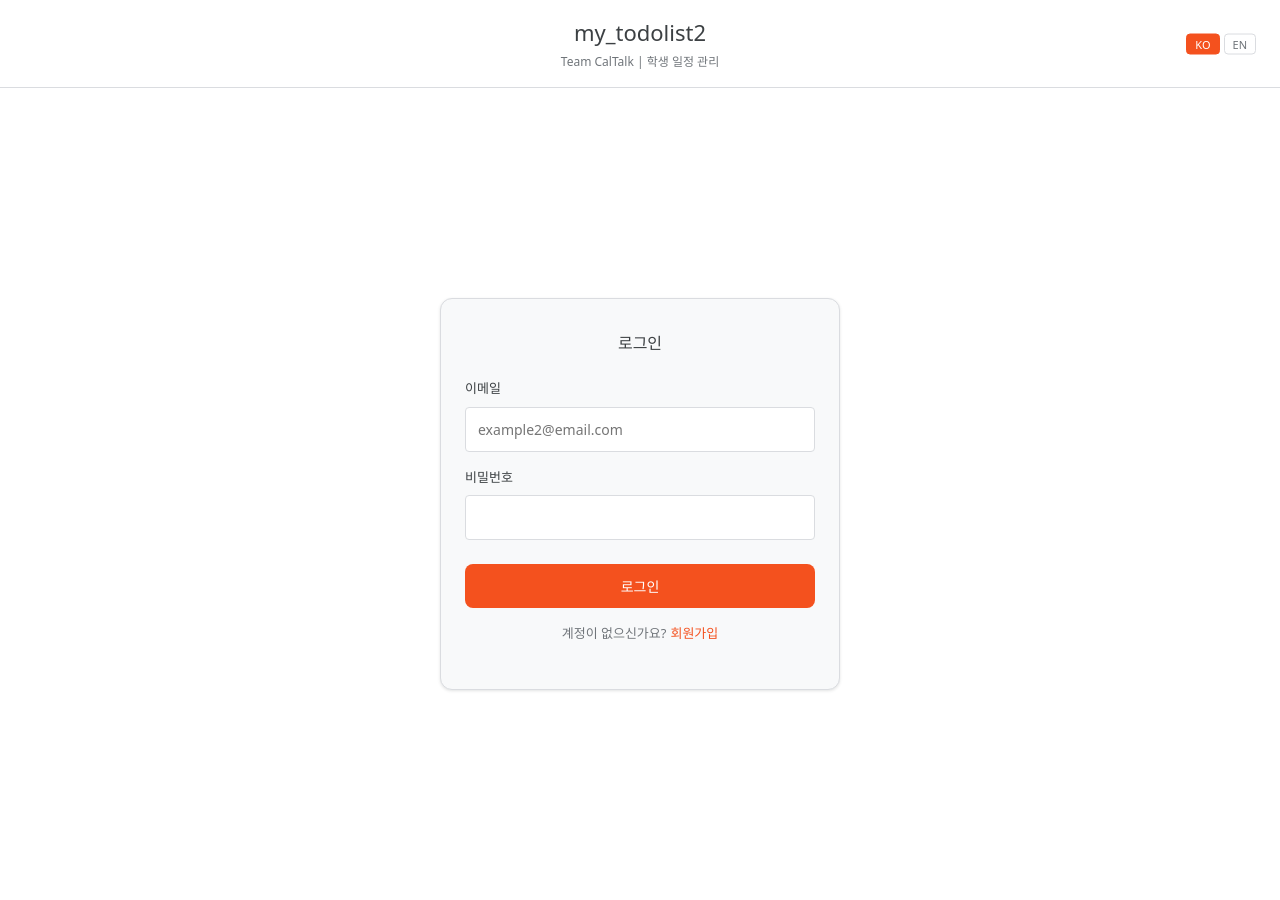
Test: 이메일 유효성 검사 › 이메일이 비어있으면 blur 시 필수 에러가 표시된다
Click the field labelled "이메일" at (640, 429), box [465, 407, 815, 452]
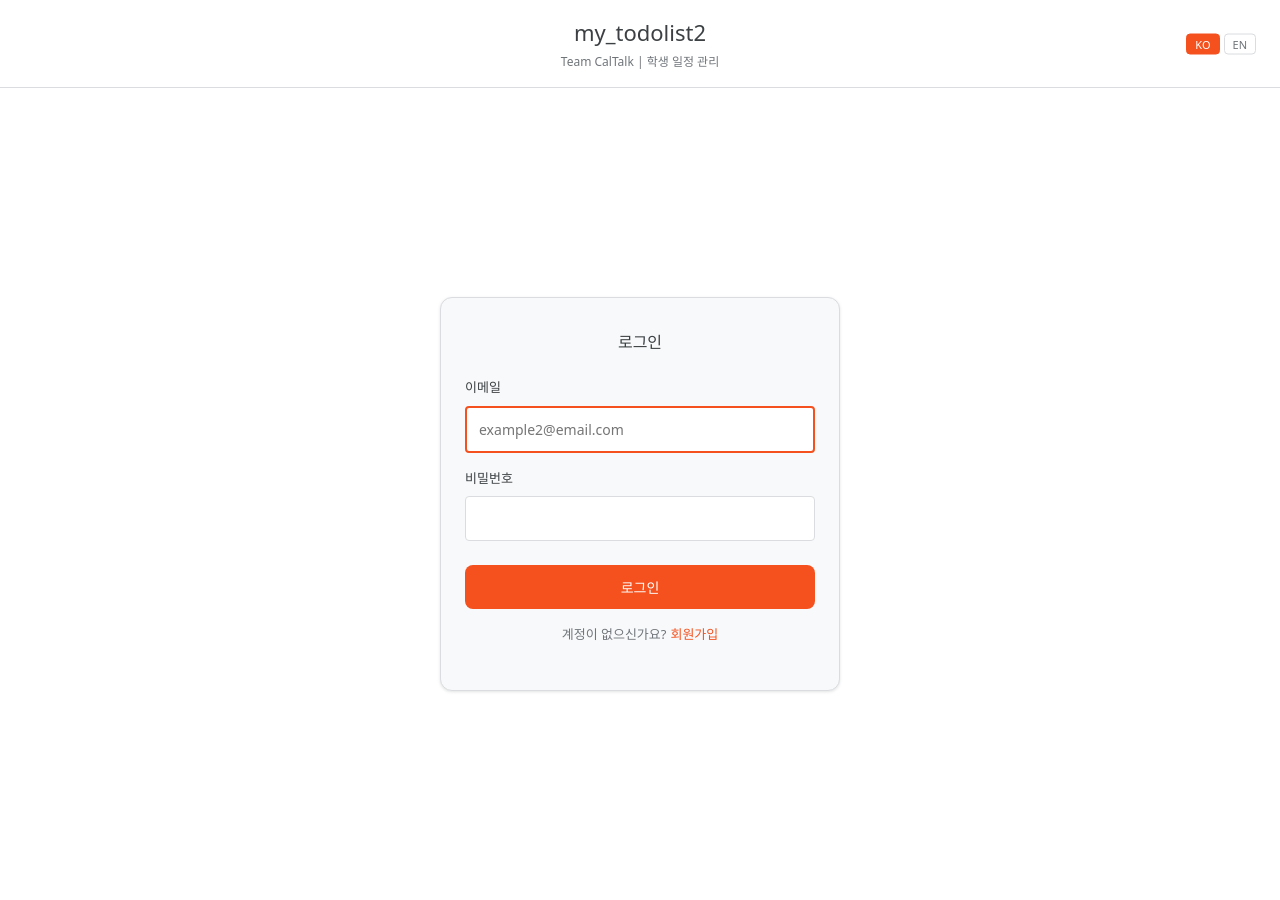
Press Tab
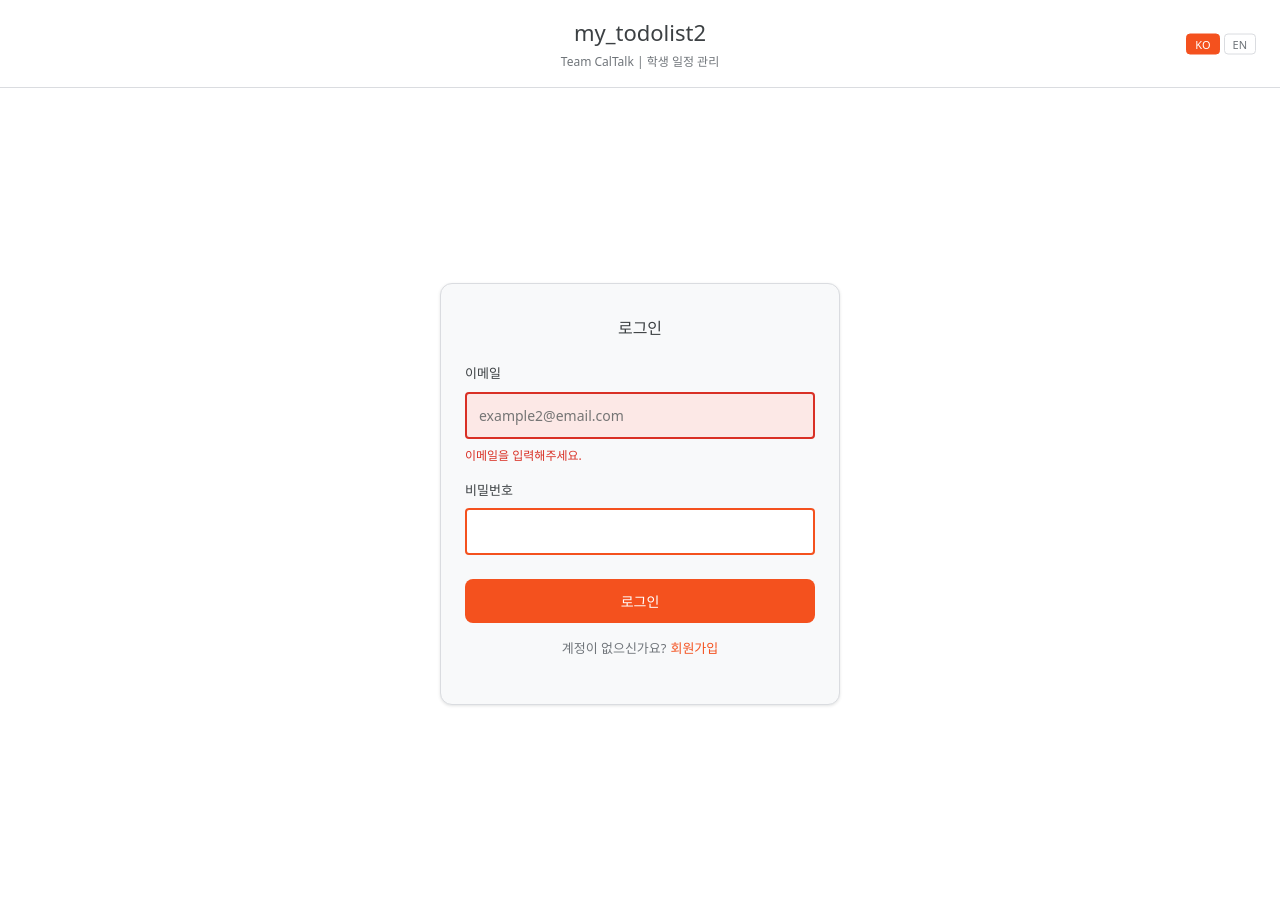
Result: the text "이메일을 입력해주세요." is shown at [465, 447, 582, 464]
